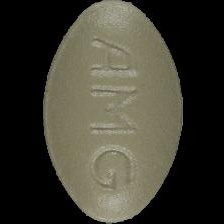69189-0730: (0, 0, 224, 224)
